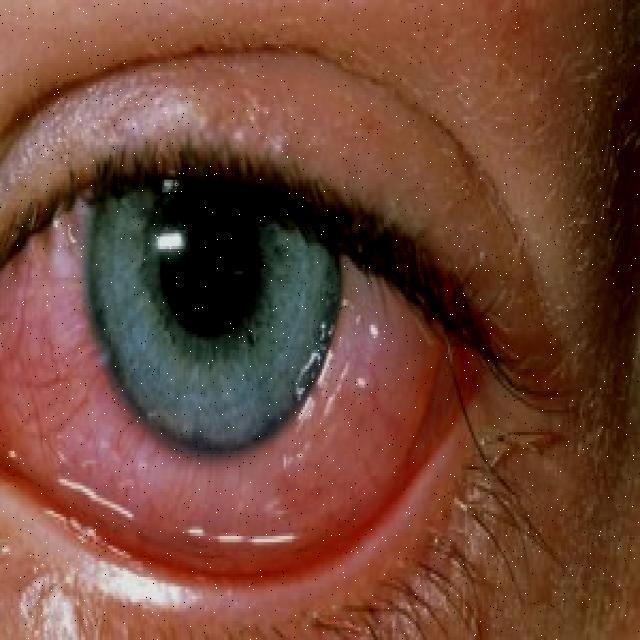Conjunctivitis: (4, 242, 475, 560)
